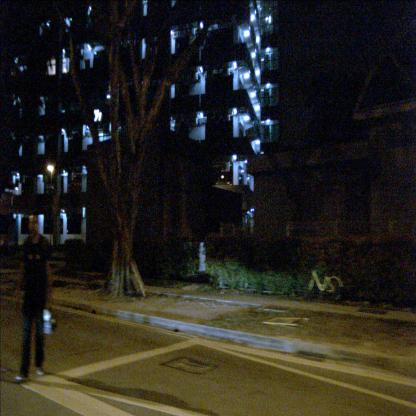human-pedestrian-adult: (14, 211, 57, 382)
